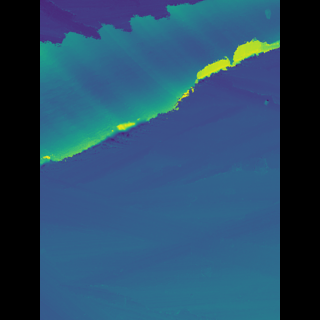Loch: (72, 0, 249, 176)
